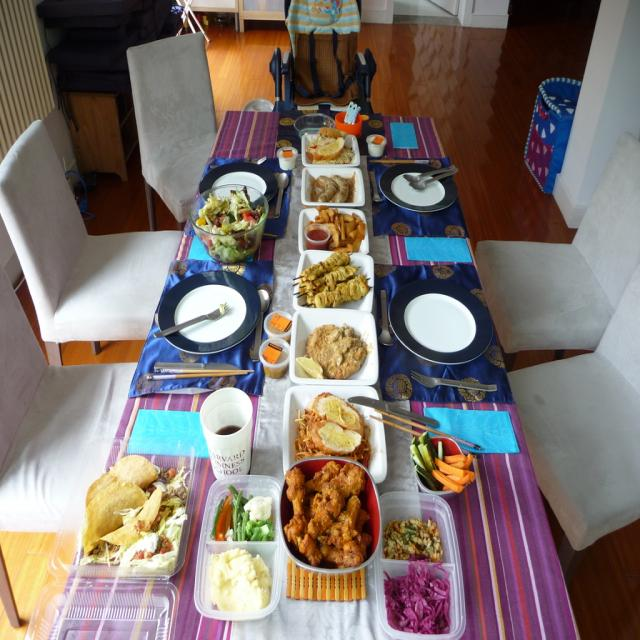non-organic waste: (287, 382, 384, 553), (284, 460, 372, 593), (291, 300, 374, 420)
